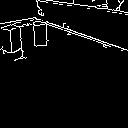cube: (29, 18, 56, 53), (1, 21, 24, 57)
